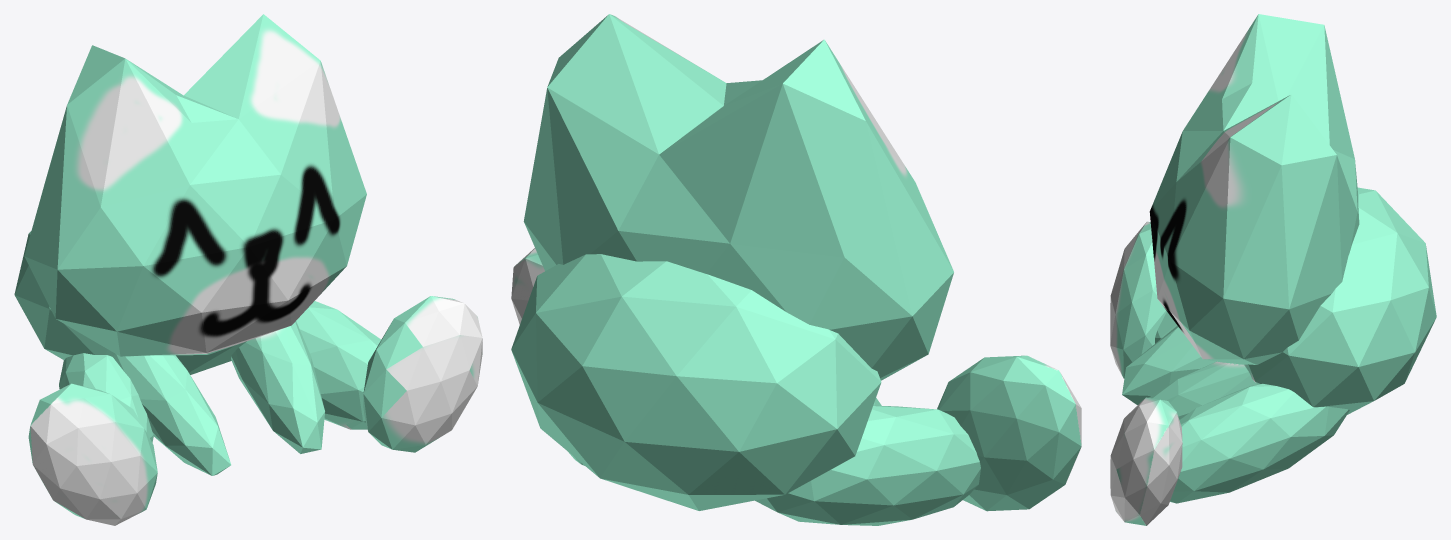
Rendered from kot(1).fbx.
3 views of the same model, side by side, from view 1: azimuth 30°, elevation 25°; view 2: azimuth 150°, elevation 25°; view 3: azimuth 270°, elevation 25° (orthographic). The views are drawn at different scales.
Visible parts, largest first — view 1: Icosphere.007; view 2: Icosphere.007; view 3: Icosphere.007.
Boxes of the visible parts, x1,y1,x2,y2 form: Icosphere.007: (14, 14, 482, 525); Icosphere.007: (511, 14, 1081, 525); Icosphere.007: (1110, 14, 1436, 525).
Bounding box in the file's own units: 66.91 × 57.29 × 42.39.
Materials: 1 (1 with a texture image).
